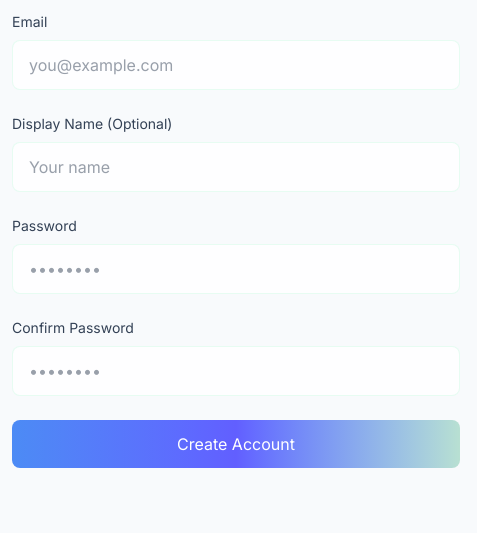
Test: RegisterForm › validates password match
The image size is (477, 533).
Type "test@example.com" into the field labelled "Email" at [236, 65], box [12,40,460,90]
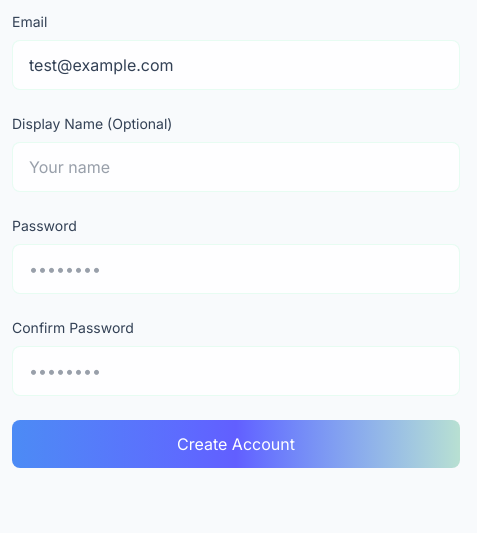
Type "password123" into the password field labelled "Password" at [236, 269], box [12,244,460,294]
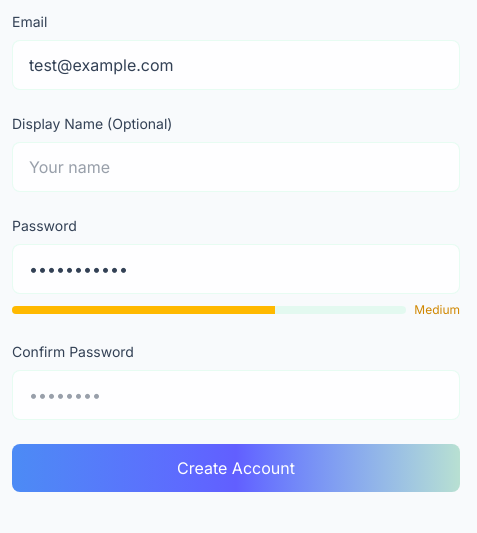
Type "different123" into the password field labelled "Confirm Password" at [236, 395], box [12,370,460,420]
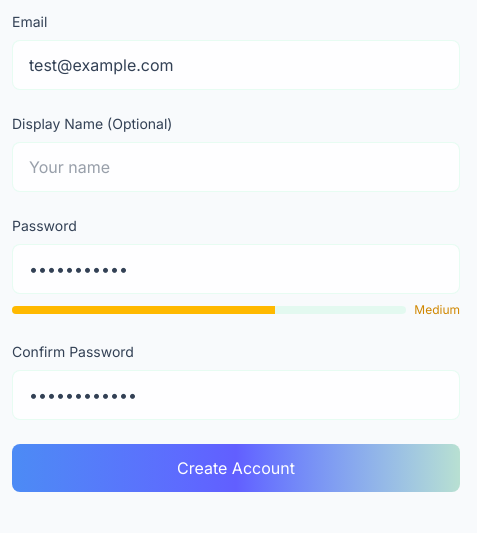
Click the button "Create Account" at [236, 468], box [12,444,460,492]
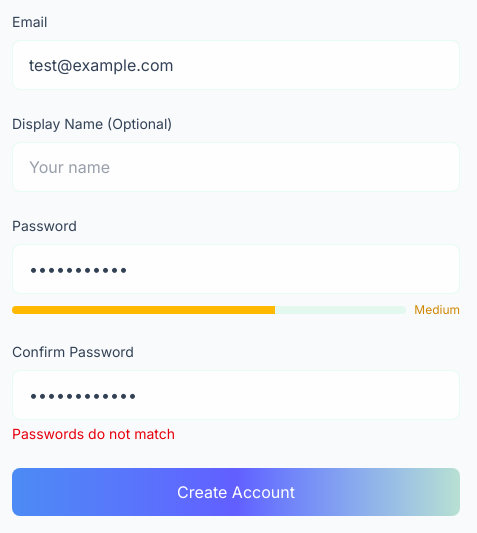
Expected: the text "Passwords do not match" is shown, [12,425,175,442]
